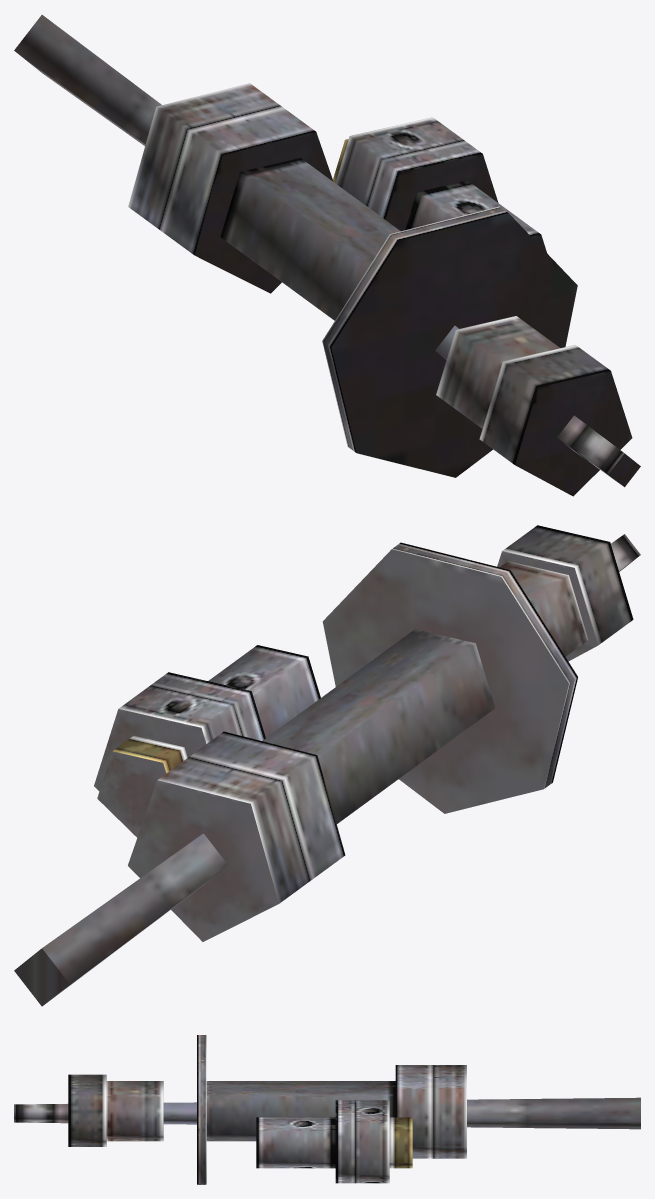
Rendered from eqp_tool_impulse_detector_s3_l1.fbx.
The picture shows the model from 3 angles, top to bottom: view 1: azimuth 30°, elevation 25°; view 2: azimuth 150°, elevation 25°; view 3: azimuth 270°, elevation 25°; orthographic projection. The views are drawn at different scales.
Parts seen in each view (by area): view 1: mesh_node; view 2: mesh_node; view 3: mesh_node.
Part boxes in pixels (x1,y1,x2,y2): mesh_node: (14, 15, 640, 496); mesh_node: (14, 525, 640, 1006); mesh_node: (14, 1035, 640, 1184).
Size of the model in its own units: 0.2947 by 0.2325 by 0.9749.
